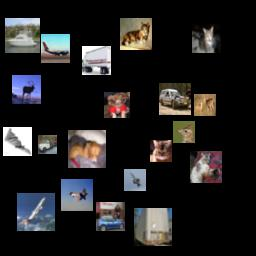airplane: (17, 193, 55, 231), (61, 179, 93, 211), (3, 127, 32, 156), (41, 34, 70, 63), (124, 169, 146, 191)
automobile: (159, 83, 191, 115), (96, 202, 125, 231)
bird: (173, 121, 195, 143)
cat: (120, 18, 152, 50), (190, 151, 222, 183), (192, 24, 221, 53), (150, 140, 172, 162)
deer: (12, 75, 41, 104), (194, 94, 216, 116)
dog: (68, 130, 106, 168), (104, 92, 130, 118)
ship: (5, 18, 40, 53)
truck: (134, 208, 172, 246), (82, 46, 111, 75), (38, 135, 57, 154)
